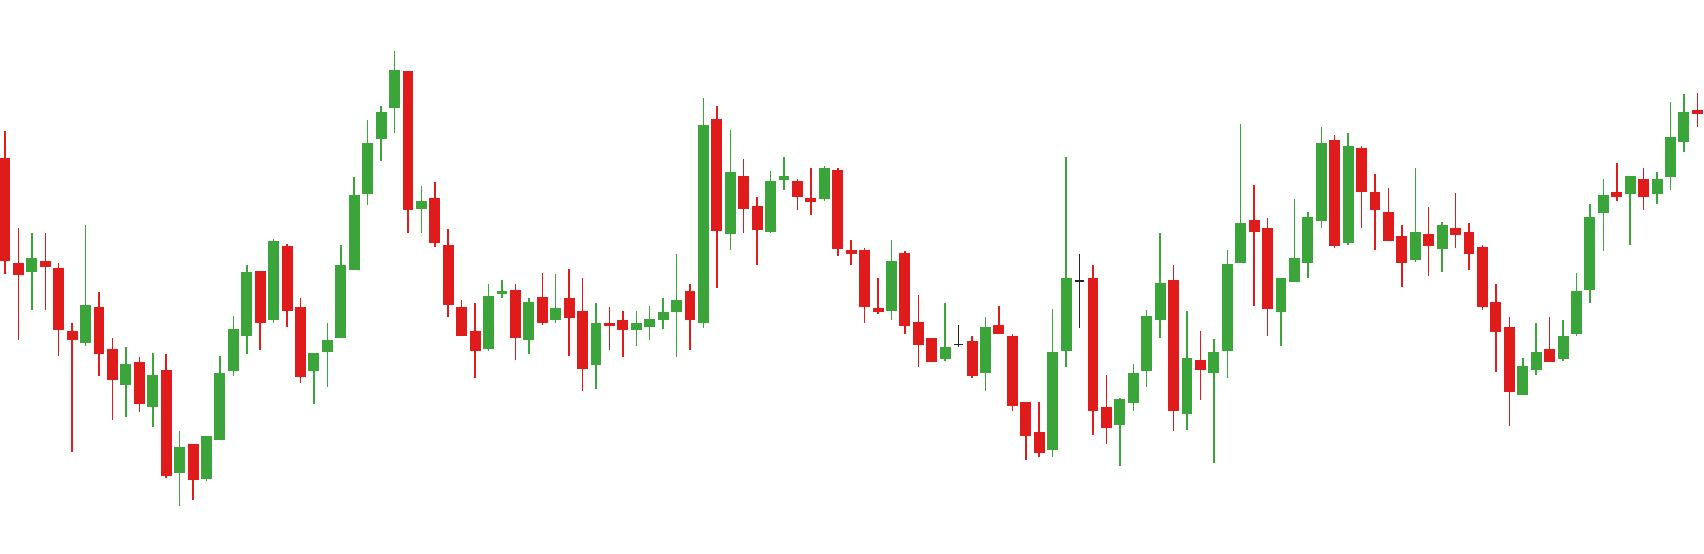buy: (1007, 309, 1129, 480), (239, 260, 336, 411)
sell: (1152, 110, 1275, 339)
